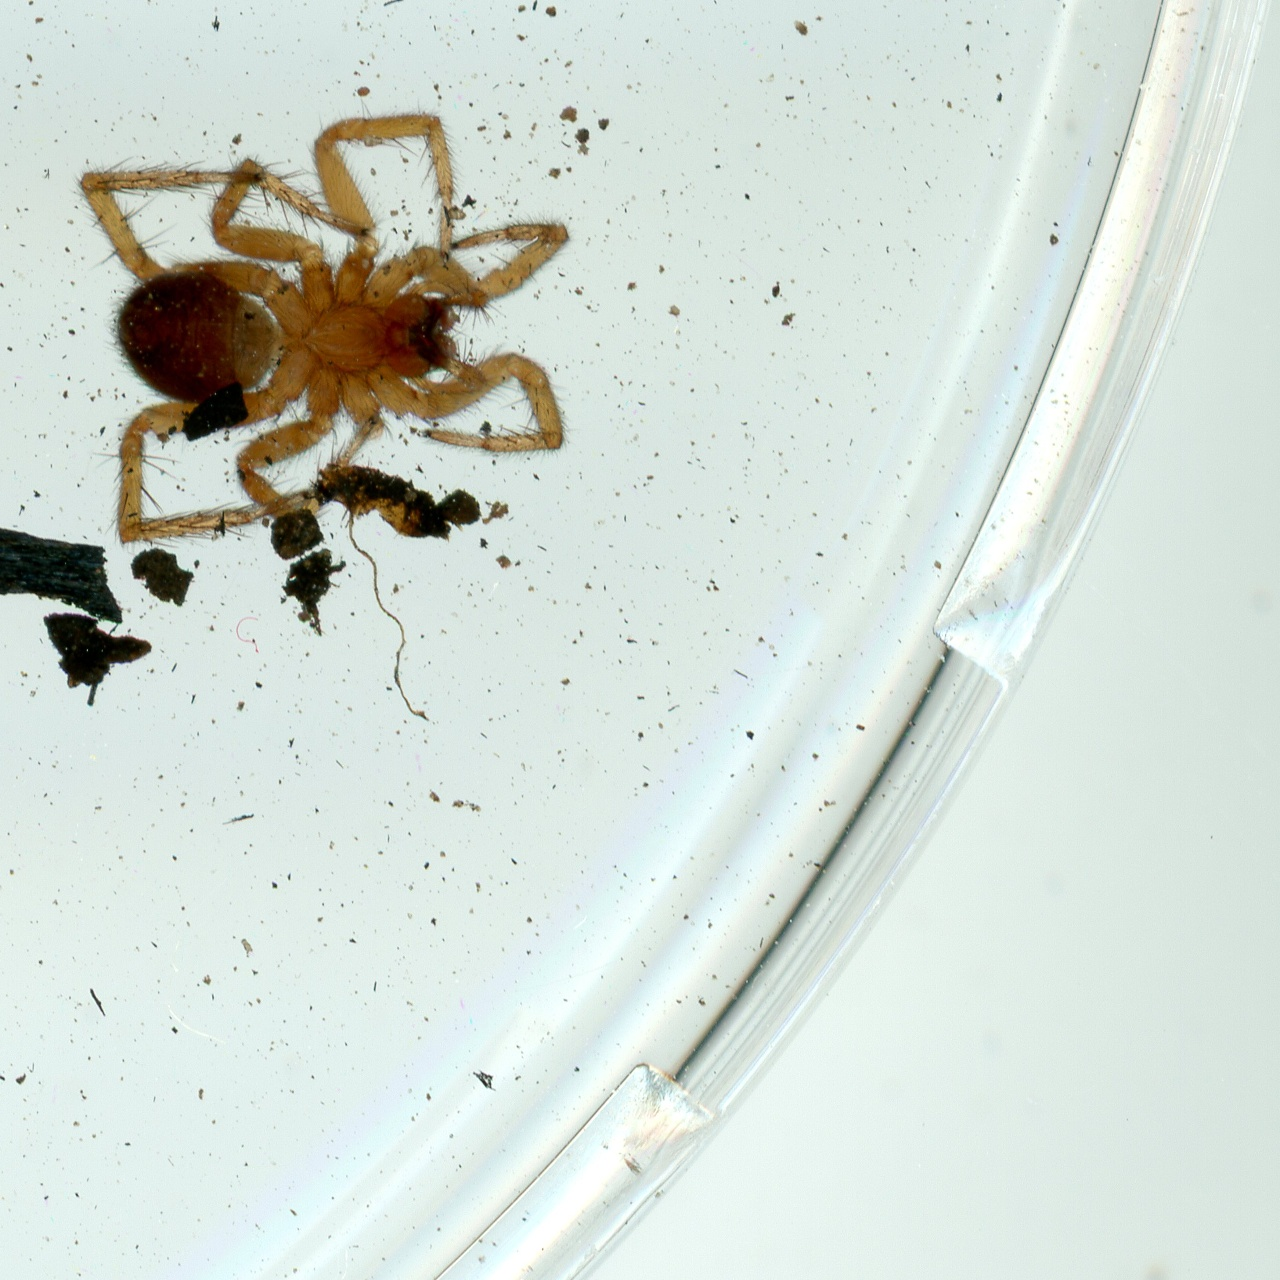arthropod: (52, 90, 588, 557)
